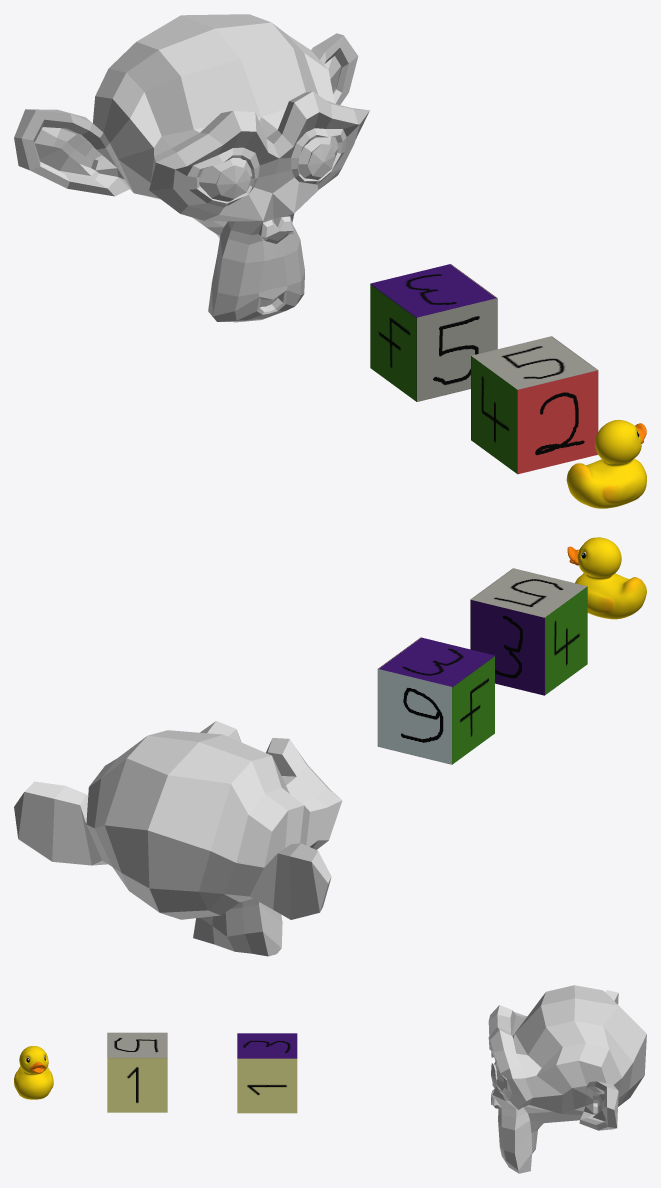
Rendered from simple2.gltf.
3 views of the same model, one above another, from view 1: azimuth 30°, elevation 25°; view 2: azimuth 150°, elevation 25°; view 3: azimuth 270°, elevation 25° (orthographic). The views are drawn at different scales.
Parts seen in each view (by area): view 1: Suzanne, Simple cube 1, Simple cube 2, duck; view 2: Suzanne, Simple cube 2, Simple cube 1, duck; view 3: Suzanne, Simple cube 1, Simple cube 2, duck.
Part boxes in pixels (bbox=[...]): Suzanne: bbox=[14, 14, 369, 322]; Simple cube 1: bbox=[471, 336, 598, 474]; Simple cube 2: bbox=[370, 264, 497, 401]; duck: bbox=[566, 419, 646, 508]; Suzanne: bbox=[14, 721, 342, 956]; Simple cube 2: bbox=[377, 637, 494, 764]; Simple cube 1: bbox=[470, 568, 587, 695]; duck: bbox=[567, 537, 646, 619]; Suzanne: bbox=[488, 985, 646, 1173]; Simple cube 1: bbox=[107, 1032, 167, 1112]; Simple cube 2: bbox=[237, 1033, 297, 1113]; duck: bbox=[14, 1046, 53, 1099].
Bounding box in the file's own units: 2.73 × 1.97 × 6.81.
Materials: 3 (2 with a texture image).
